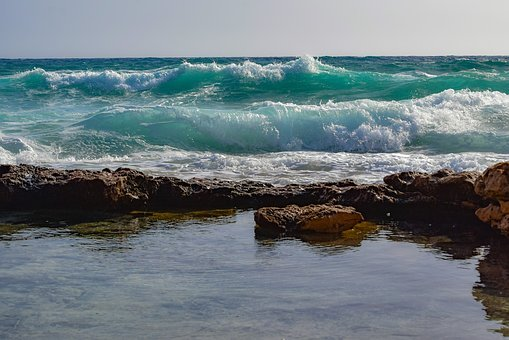sea: (3, 60, 509, 335)
sky: (3, 4, 509, 56)
